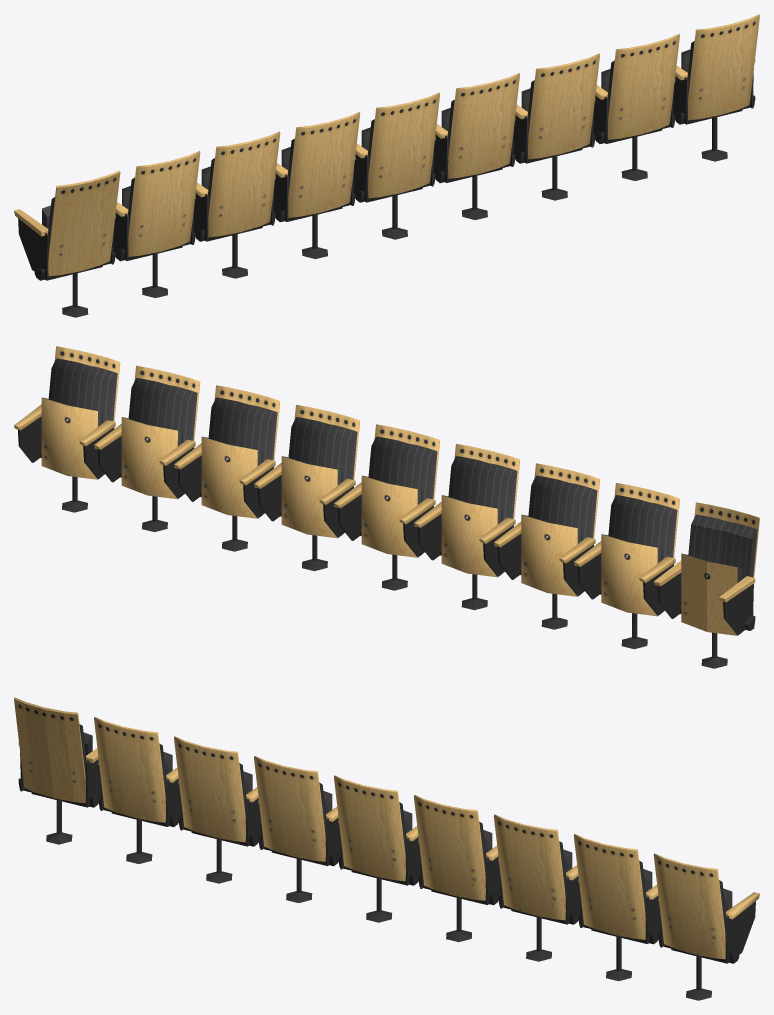
File: chair_sp.FBX
3 renders of one model, top to bottom at view 1: azimuth 30°, elevation 25°; view 2: azimuth 150°, elevation 25°; view 3: azimuth 330°, elevation 25°, orthographic.
Visible parts, largest first — view 1: chair_sp; view 2: chair_sp; view 3: chair_sp.
Part boxes in pixels (x1,y1,x2,y2): chair_sp: (14,14,759,317); chair_sp: (14,346,759,668); chair_sp: (14,697,759,1000).
Size of the model in its own units: 578 by 110 by 57.68.
